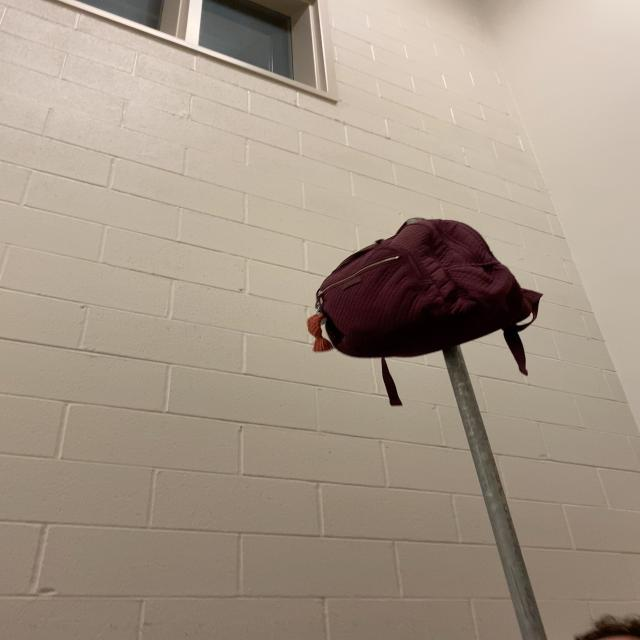Backpacks: (310, 212, 537, 360)
